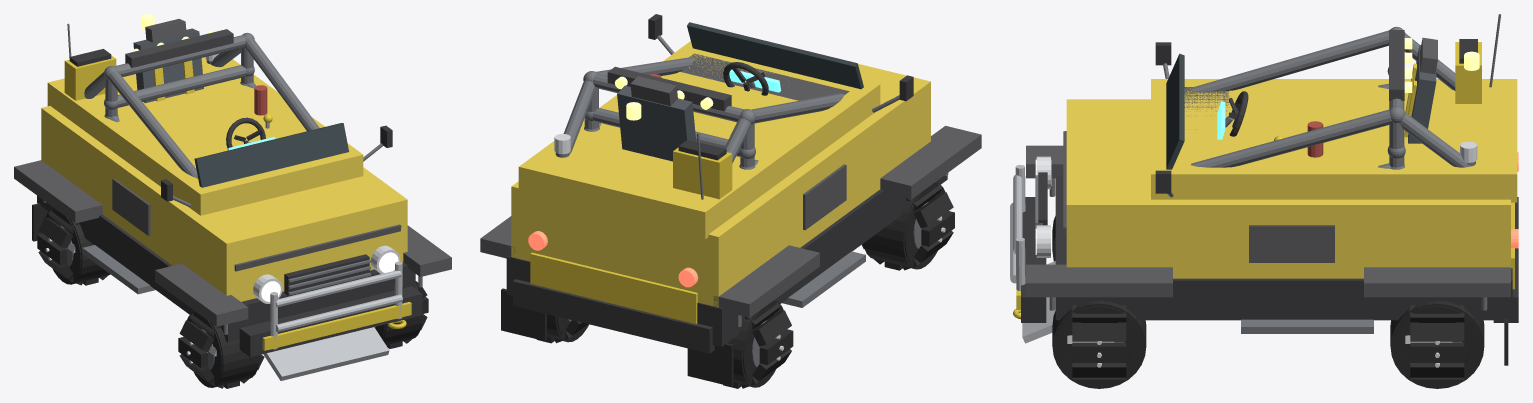
The model's file is boxcar.glb.
3 views of the same model, side by side, from view 1: azimuth 30°, elevation 25°; view 2: azimuth 150°, elevation 25°; view 3: azimuth 270°, elevation 25° (orthographic). The views are drawn at different scales.
Parts seen in each view (by area): view 1: body_body, body_plastic, body_body_dark, body_steel_dark, body_steel, body_glass, body_hazard, wheel_fr_rubber, wheel_rr_rubber, body_lamp, body_seat, wheel_fl_rubber (+4 smaller); view 2: body_body, body_plastic, body_body_dark, body_steel_dark, body_hazard, wheel_fr_rubber, body_glass, body_seat, wheel_rr_rubber, body_rubber, body_lamp, wheel_rl_rubber (+2 smaller); view 3: body_body, body_plastic, body_body_dark, body_steel_dark, wheel_fl_rubber, wheel_rl_rubber, body_steel, body_hazard, body_glass, body_seat, body_chrome, body_lamp (+1 smaller).
Boxes of the visible parts, x1,y1,x2,y2 form: body_body: [41, 57, 407, 301]; body_plastic: [37, 49, 422, 357]; body_body_dark: [14, 19, 451, 326]; body_steel_dark: [43, 23, 422, 334]; body_steel: [263, 261, 402, 380]; body_glass: [194, 123, 348, 187]; body_hazard: [64, 55, 411, 350]; wheel_fr_rubber: [178, 311, 264, 388]; wheel_rr_rubber: [37, 208, 110, 285]; body_lamp: [125, 29, 233, 67]; body_seat: [133, 28, 203, 103]; wheel_fl_rubber: [375, 281, 428, 348]; body_body: [511, 41, 930, 307]; body_plastic: [506, 14, 947, 353]; body_body_dark: [480, 53, 981, 317]; body_steel_dark: [555, 35, 948, 326]; body_hazard: [530, 82, 732, 323]; wheel_fr_rubber: [862, 182, 954, 270]; body_glass: [687, 22, 863, 89]; body_seat: [617, 85, 696, 161]; wheel_rr_rubber: [723, 300, 793, 388]; body_rubber: [501, 288, 733, 386]; body_lamp: [607, 66, 731, 111]; wheel_rl_rubber: [536, 314, 588, 343]; body_body: [1066, 79, 1517, 278]; body_plastic: [1021, 39, 1518, 322]; body_body_dark: [1026, 37, 1510, 297]; body_steel_dark: [1035, 14, 1500, 333]; wheel_fl_rubber: [1052, 300, 1146, 388]; wheel_rl_rubber: [1390, 300, 1484, 388]; body_steel: [1010, 165, 1055, 343]; body_hazard: [1013, 42, 1514, 319]; body_glass: [1166, 53, 1184, 169]; body_seat: [1408, 45, 1436, 143]; body_chrome: [1036, 141, 1477, 257]; body_lamp: [1389, 30, 1404, 100].
Bounding box in the file's own units: 2.08 × 2 × 3.25.
